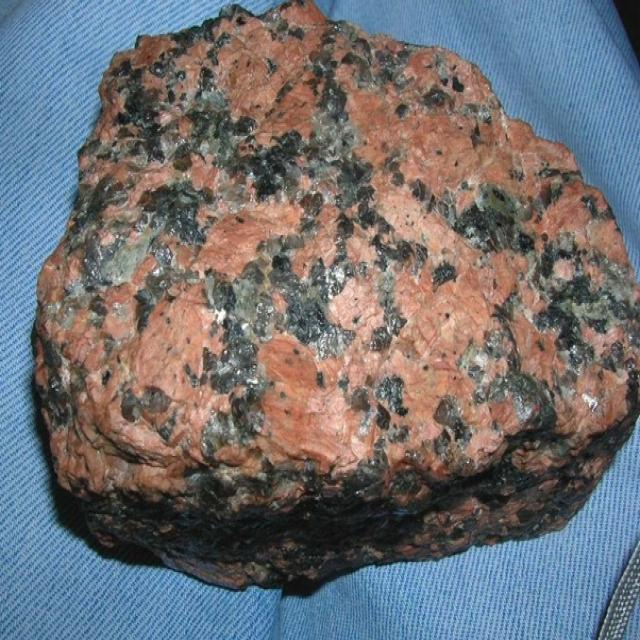Igneous: (40, 3, 638, 596)
